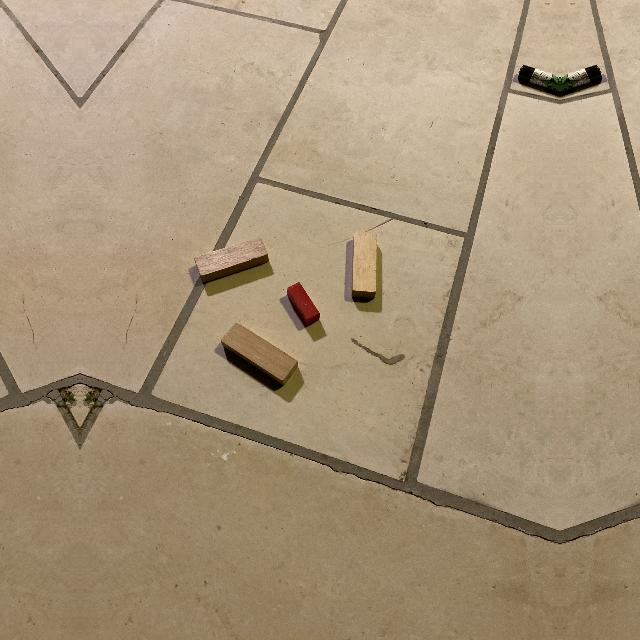block: (197, 238, 269, 283)
jenga: (220, 323, 298, 389), (350, 232, 381, 304)
red block: (287, 282, 320, 327)
